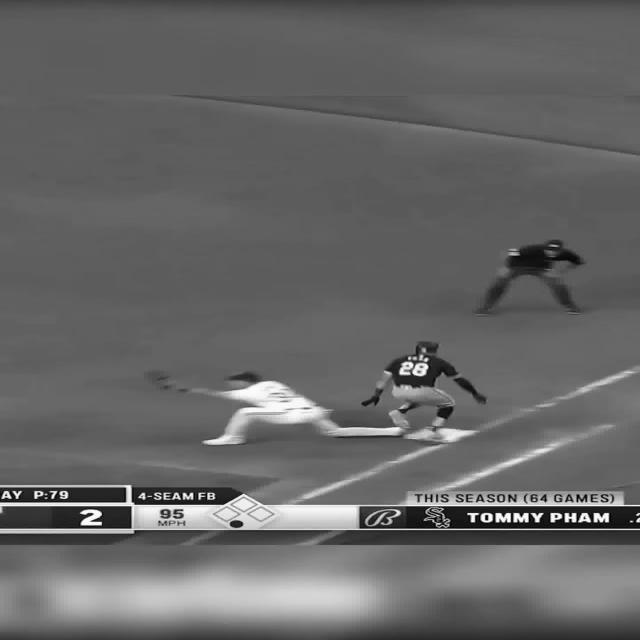base: (420, 426, 475, 444)
baseball_glove: (143, 373, 180, 388)
shoe: (402, 427, 444, 440), (387, 409, 411, 429), (200, 435, 246, 445), (472, 308, 492, 316), (564, 307, 580, 314)
